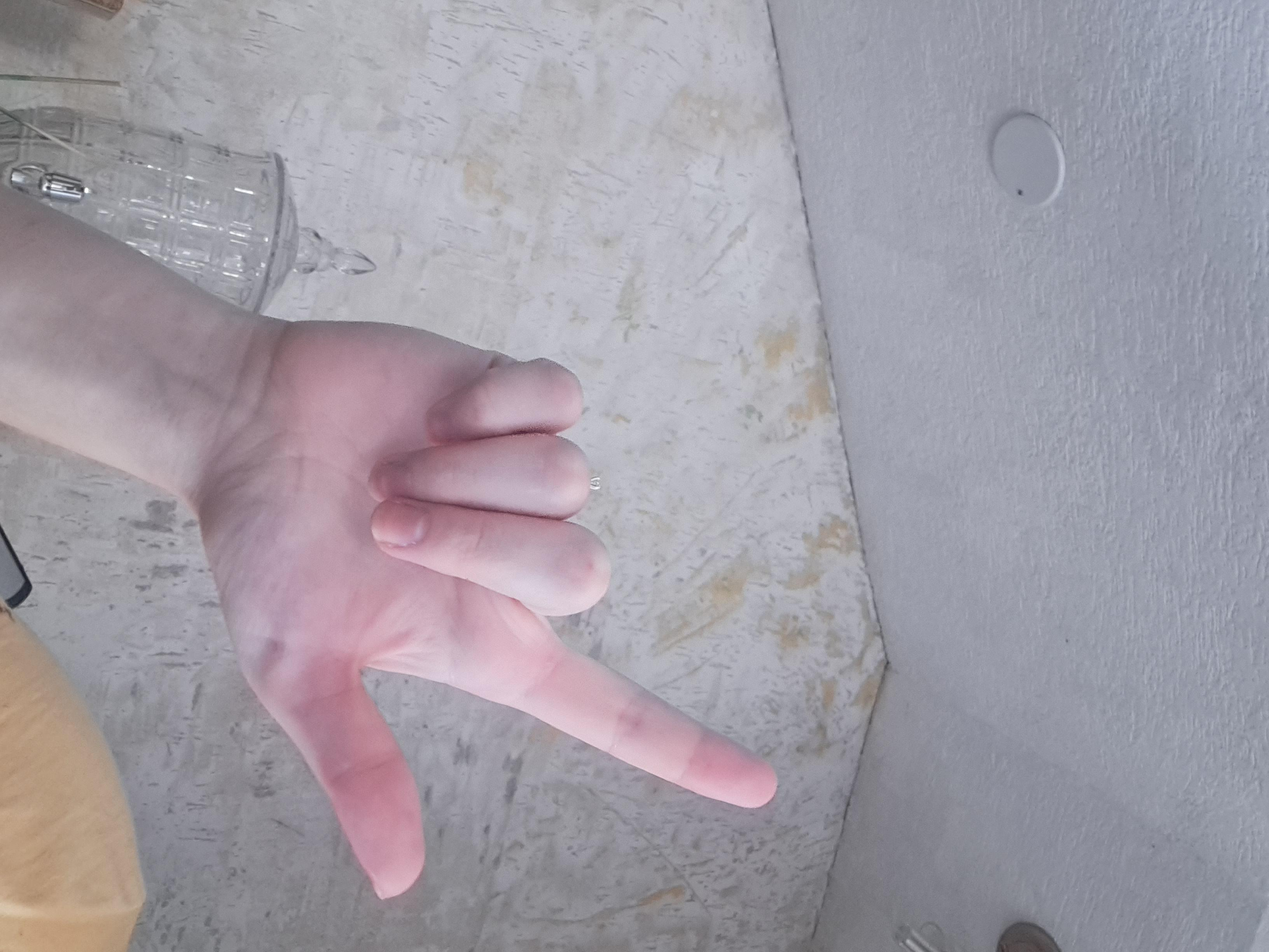L: (373, 338, 1244, 799)
